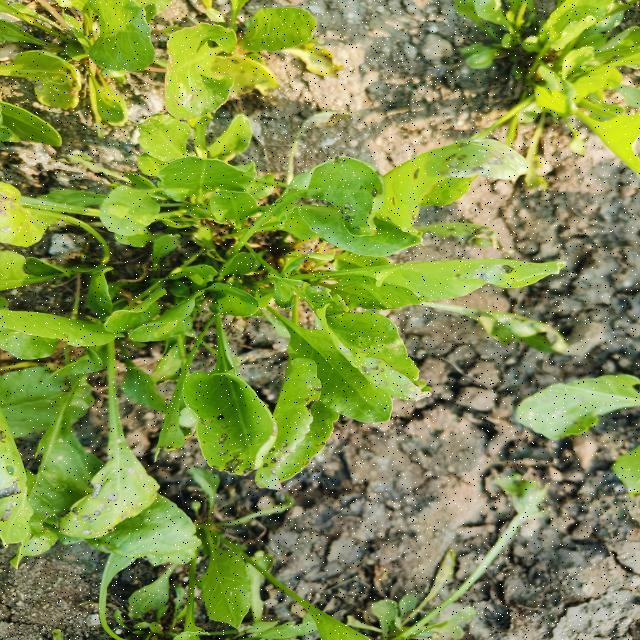leaves: (311, 123, 575, 282), (48, 321, 161, 551), (15, 344, 117, 573), (241, 146, 396, 285), (241, 282, 336, 497), (333, 236, 568, 321), (181, 284, 271, 478), (278, 288, 393, 439), (69, 474, 210, 588), (506, 357, 640, 458), (142, 9, 251, 116), (193, 514, 274, 636), (86, 169, 221, 237), (218, 1, 324, 86), (158, 138, 266, 218), (1, 179, 112, 255), (78, 1, 181, 77), (126, 113, 240, 172), (203, 181, 273, 244)
